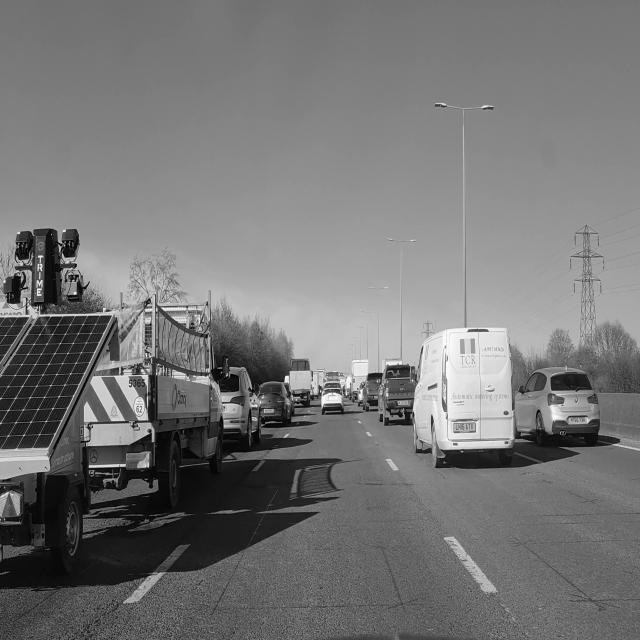car: (413, 328, 514, 467), (515, 368, 600, 445), (219, 368, 261, 450), (378, 359, 420, 426), (258, 382, 291, 424), (362, 372, 382, 412), (321, 383, 343, 414), (285, 382, 295, 416), (358, 382, 364, 406)
